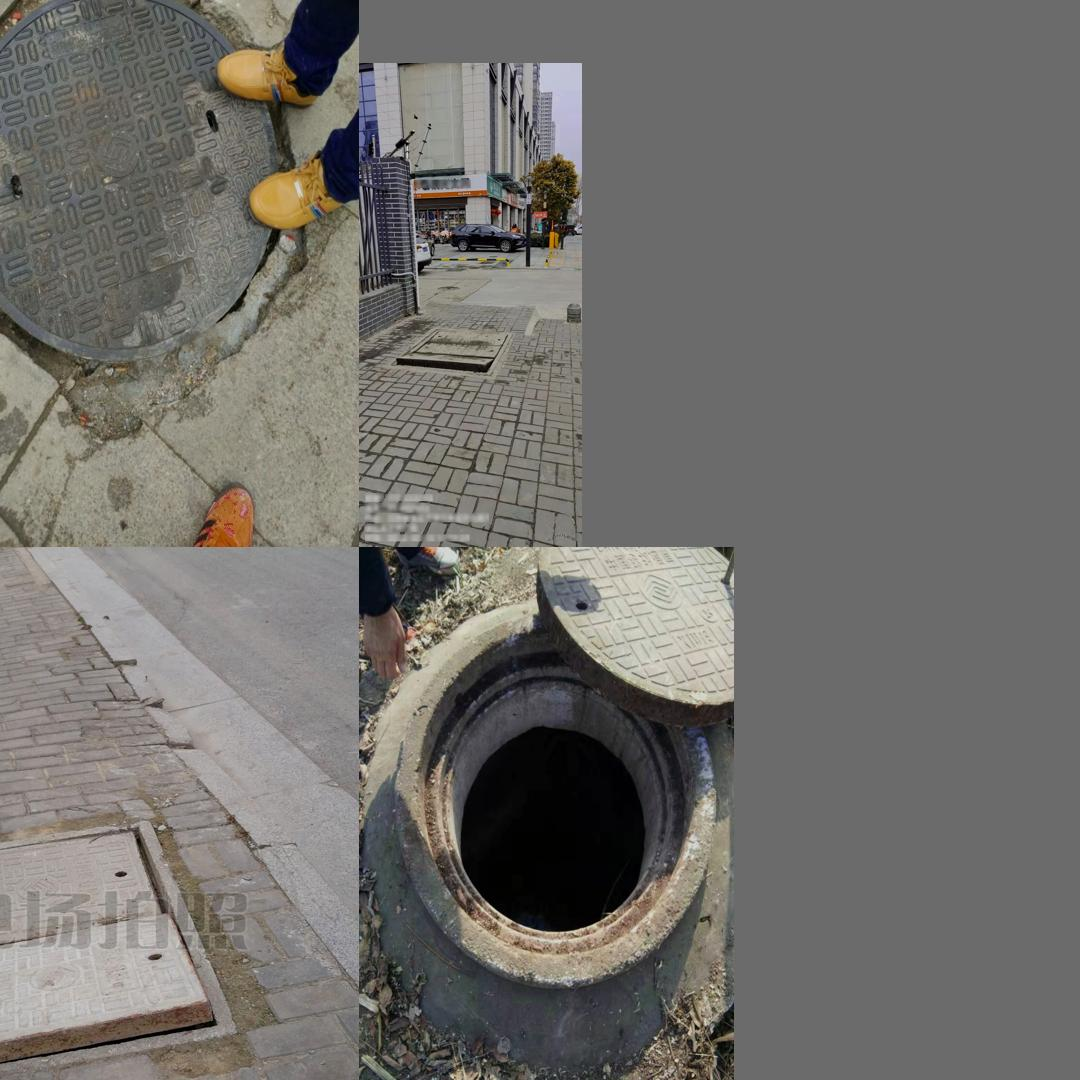uncovered: (393, 547, 731, 984), (0, 0, 280, 363), (0, 873, 249, 1060), (391, 327, 511, 373)
